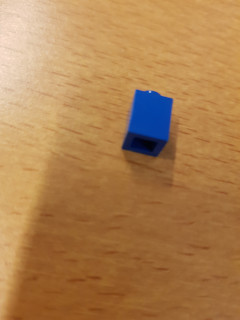1x1 blue: (121, 89, 173, 158)
